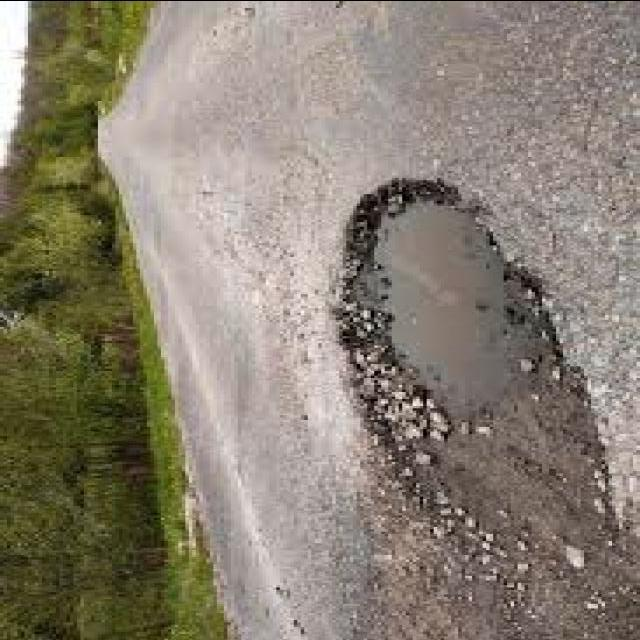pothole: (339, 179, 598, 484)
